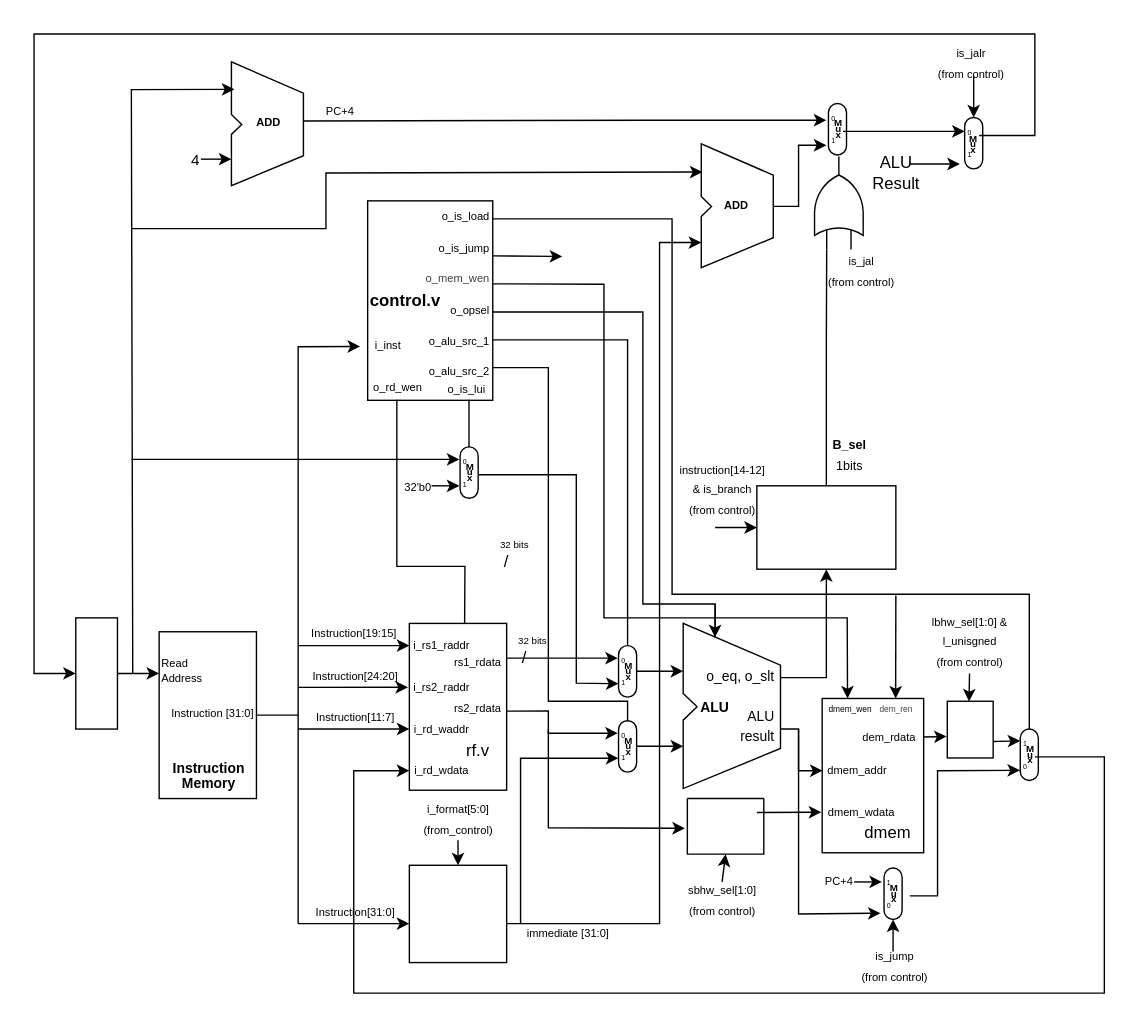
The diagram is 1140 pixels wide and 1029 high, and some of its shapes have lost their labels. The centre of each missing label's shape, as x and y in pixels:
"branch_decoder.v" belongs at point 825,526.
"imm.v Immediate Decoder" belongs at point 457,913.
"load width logic" belongs at point 969,729.
"PC" belongs at point 95,672.
"store width logic" belongs at point 725,825.
